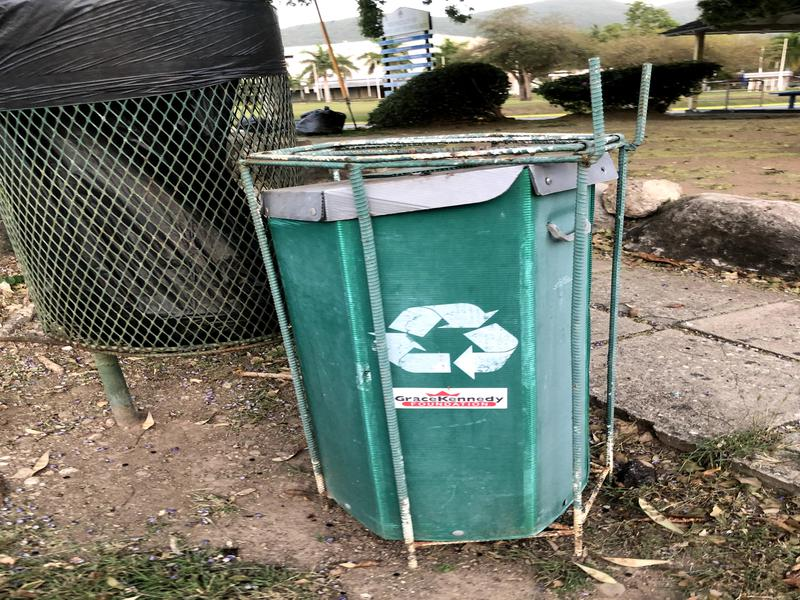18.0053245_-76.7486424_recyclebin: (236, 101, 674, 546)
